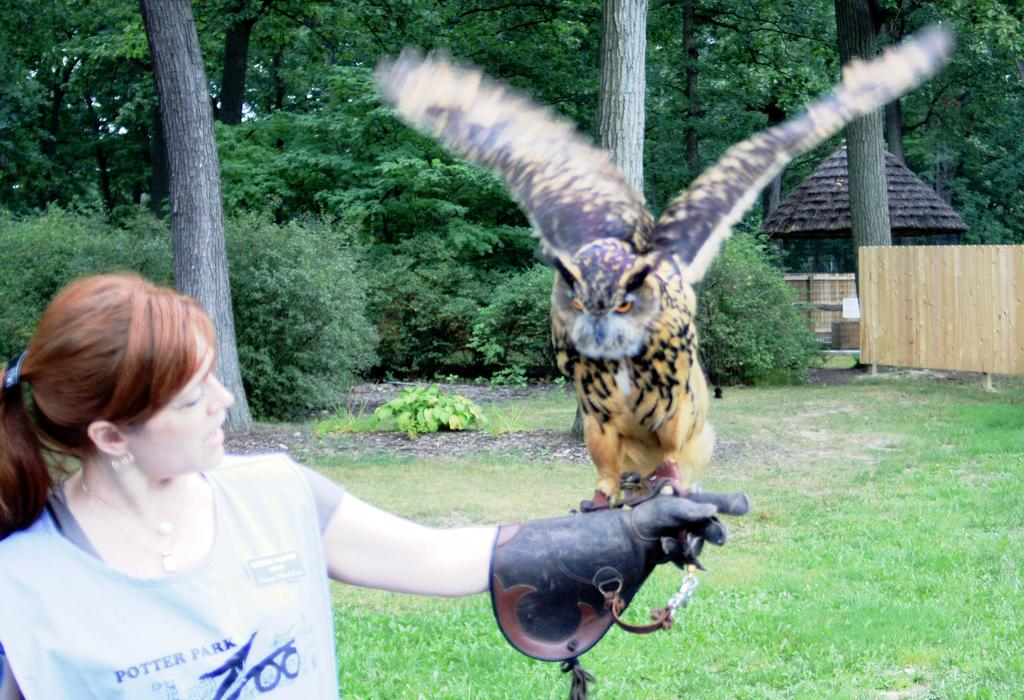Owl: (356, 28, 937, 510)
